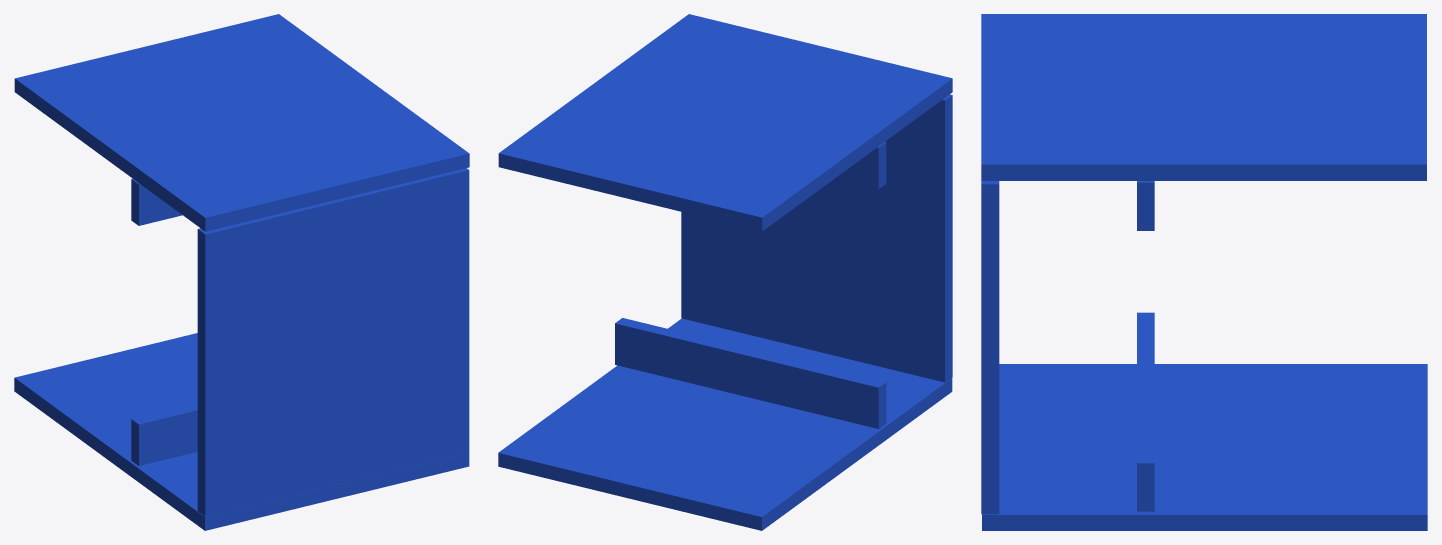
The model's file is tray_stand.obj.
3 renders of one model, left to right at view 1: azimuth 30°, elevation 25°; view 2: azimuth 150°, elevation 25°; view 3: azimuth 270°, elevation 25°, orthographic. The views are drawn at different scales.
Visible parts, largest first — view 1: tray_stand_top, tray_stand_left_wall, tray_stand_right_wall, tray_stand_right_hook, tray_stand_left_hook; view 2: tray_stand_left_wall, tray_stand_top, tray_stand_right_wall, tray_stand_right_hook, tray_stand_left_hook; view 3: tray_stand_left_wall, tray_stand_right_wall, tray_stand_top, tray_stand_right_hook, tray_stand_left_hook.
Boxes of the visible parts, x1,y1,x2,y2 form: tray_stand_top: (197, 168, 469, 516); tray_stand_left_wall: (14, 14, 469, 231); tray_stand_right_wall: (14, 333, 469, 530); tray_stand_right_hook: (131, 403, 197, 465); tray_stand_left_hook: (131, 178, 182, 225); tray_stand_left_wall: (498, 14, 952, 231); tray_stand_top: (681, 94, 952, 382); tray_stand_right_wall: (498, 318, 952, 530); tray_stand_right_hook: (615, 318, 886, 428); tray_stand_left_hook: (835, 142, 886, 189); tray_stand_left_wall: (981, 14, 1426, 180); tray_stand_right_wall: (982, 364, 1427, 530); tray_stand_top: (981, 181, 999, 514); tray_stand_right_hook: (1137, 312, 1154, 511); tray_stand_left_hook: (1137, 181, 1154, 230).
Bounding box in the file's own units: 0.2 × 0.2267 × 0.2505.
